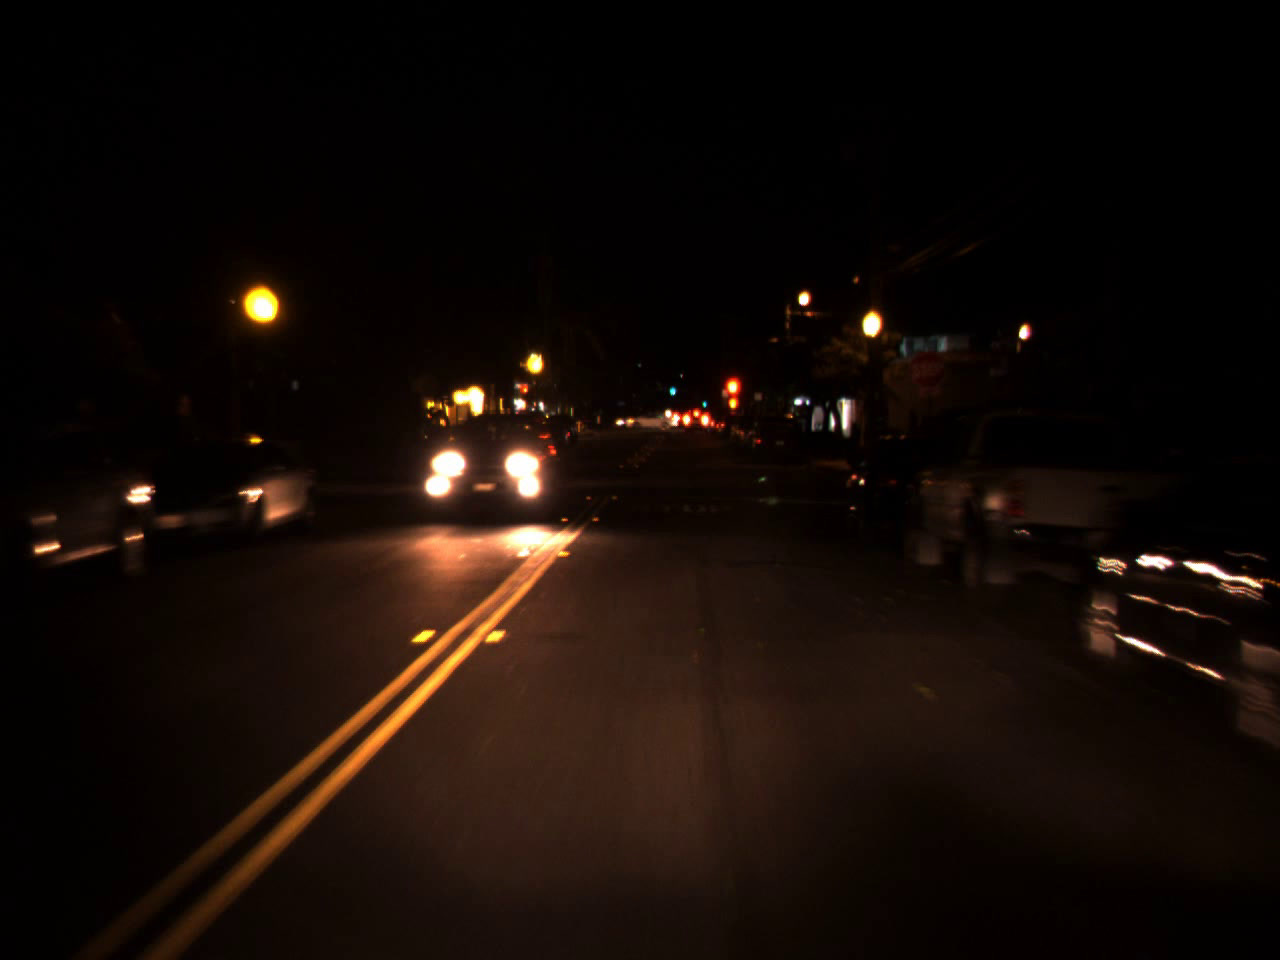go: (667, 381, 676, 396), (700, 395, 707, 407)
stop: (724, 376, 740, 413), (520, 383, 532, 404)
